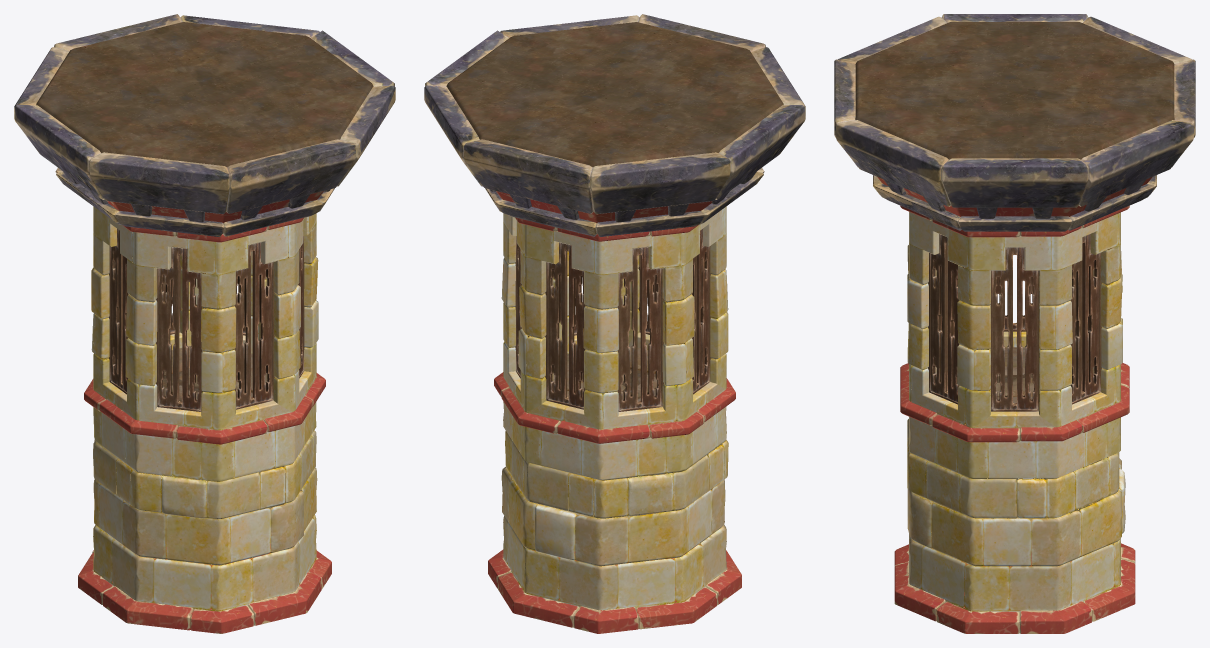
3 views of the same model, side by side, from view 1: azimuth 30°, elevation 25°; view 2: azimuth 150°, elevation 25°; view 3: azimuth 270°, elevation 25° (orthographic).
Parts seen in each view (by area): view 1: SM_Menaphite_Ruins_Tower_02v1_LOD0; view 2: SM_Menaphite_Ruins_Tower_02v1_LOD0; view 3: SM_Menaphite_Ruins_Tower_02v1_LOD0.
Boxes of the visible parts, box(x1,y1,x2,y2) form: SM_Menaphite_Ruins_Tower_02v1_LOD0: box(14, 14, 395, 633); SM_Menaphite_Ruins_Tower_02v1_LOD0: box(424, 14, 805, 633); SM_Menaphite_Ruins_Tower_02v1_LOD0: box(834, 14, 1195, 633).
Size of the model in its own units: 6.74 by 10.19 by 6.74.
7 materials, 7 textured.
